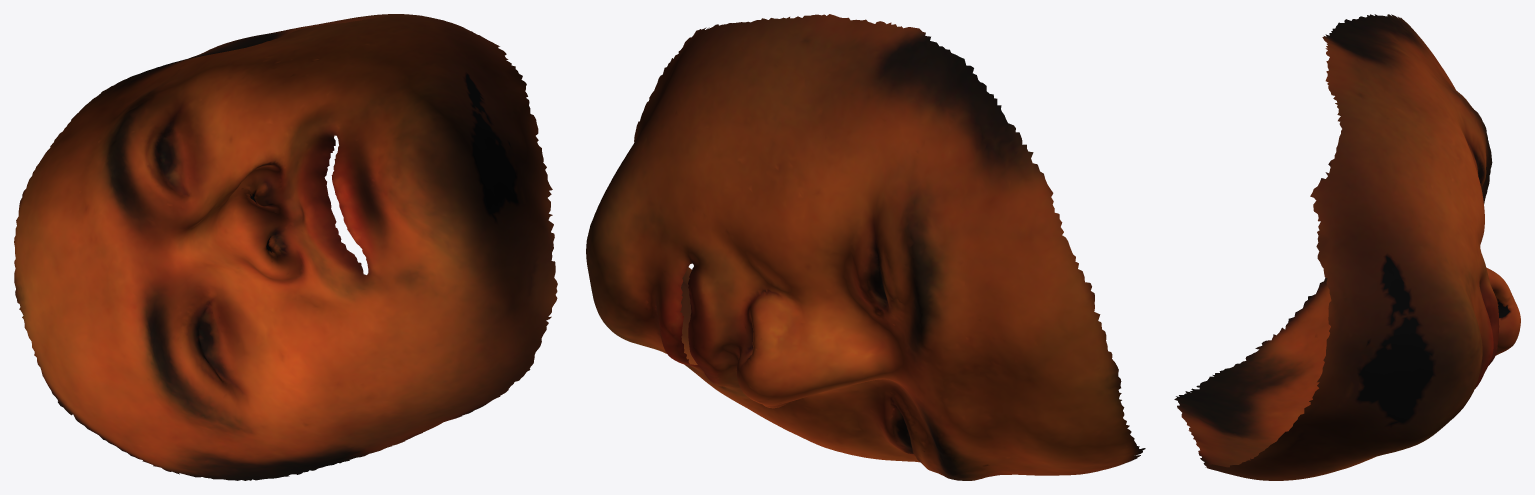
Rendered from face_mesh_neutral.obj.
3 renders of one model, left to right at view 1: azimuth 30°, elevation 25°; view 2: azimuth 150°, elevation 25°; view 3: azimuth 270°, elevation 25°, orthographic. The views are drawn at different scales.
Size of the model in its own units: 1 by 0.7699 by 0.6132.
